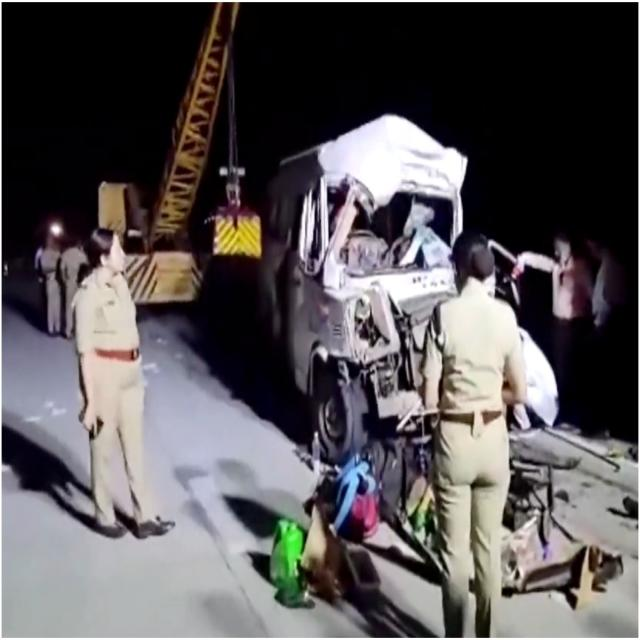accident: (260, 115, 466, 464), (99, 3, 261, 305)
